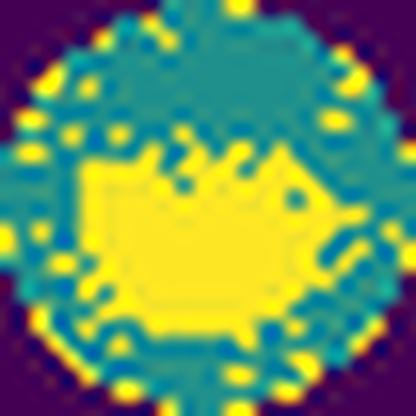Center: (77, 148, 352, 340)
